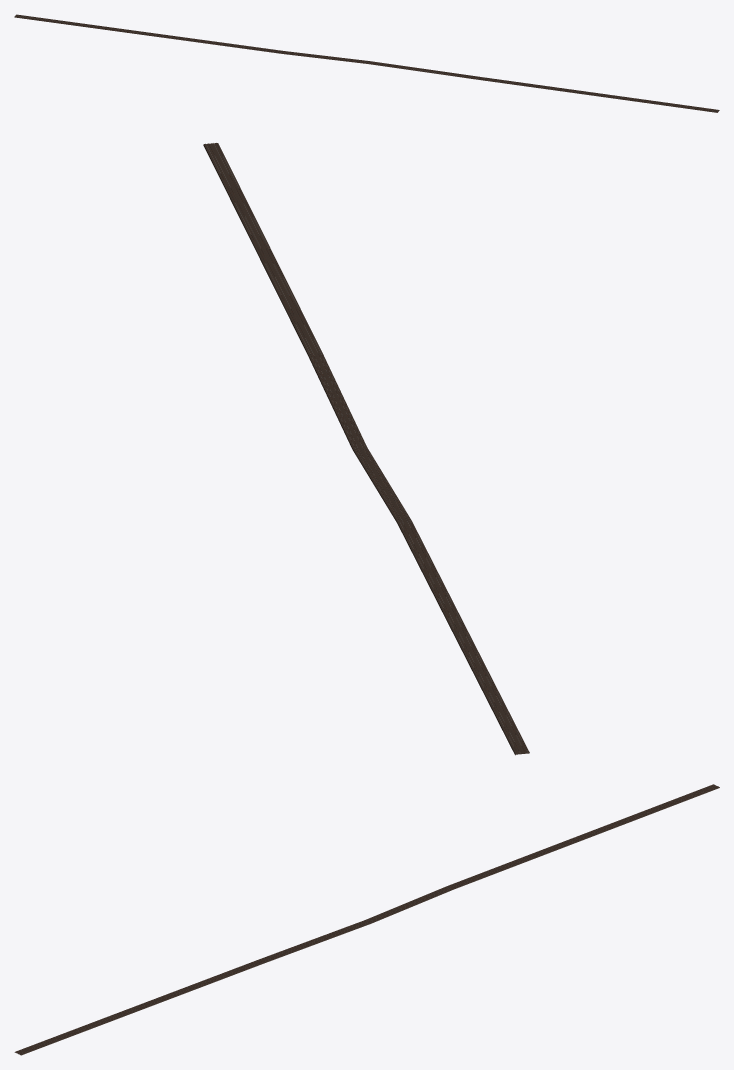
Rendered from kobe_0007.glb.
The picture shows the model from 3 angles, top to bottom: view 1: azimuth 30°, elevation 25°; view 2: azimuth 150°, elevation 25°; view 3: azimuth 270°, elevation 25°; orthographic projection. The views are drawn at different scales.
Visible parts, largest first — view 1: ballast_top, oxidised_rail_profiles; view 2: ballast_top, oxidised_rail_profiles, ballast_left; view 3: ballast_top, oxidised_rail_profiles, ballast_left.
Part boxes in pixels (x1,y1,x2,y2): ballast_top: (14, 14, 719, 112); oxidised_rail_profiles: (14, 14, 719, 112); ballast_top: (204, 143, 529, 754); oxidised_rail_profiles: (206, 143, 527, 753); ballast_left: (203, 144, 515, 755); ballast_top: (14, 784, 719, 1054); oxidised_rail_profiles: (15, 784, 718, 1054); ballast_left: (20, 787, 719, 1055).
Bounding box in the file's own units: 513 × 0.819 × 565.
Materials: 4 (3 with a texture image).
